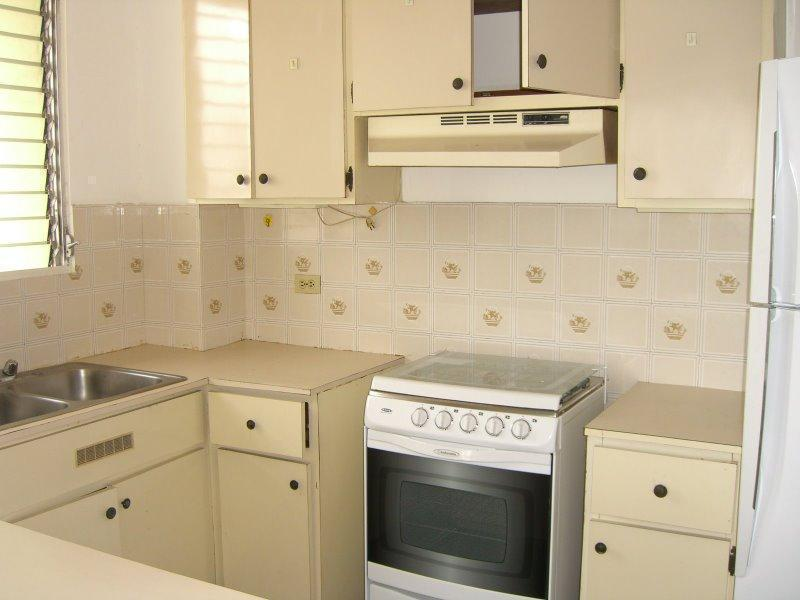Electrodomestico: (362, 368, 560, 594), (742, 56, 799, 597)
Lavaplatos: (7, 360, 189, 435)
